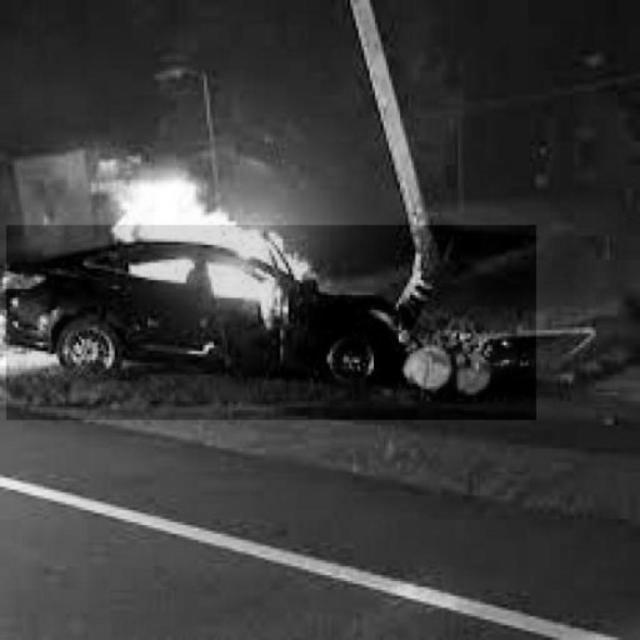accident: (7, 226, 537, 421)
